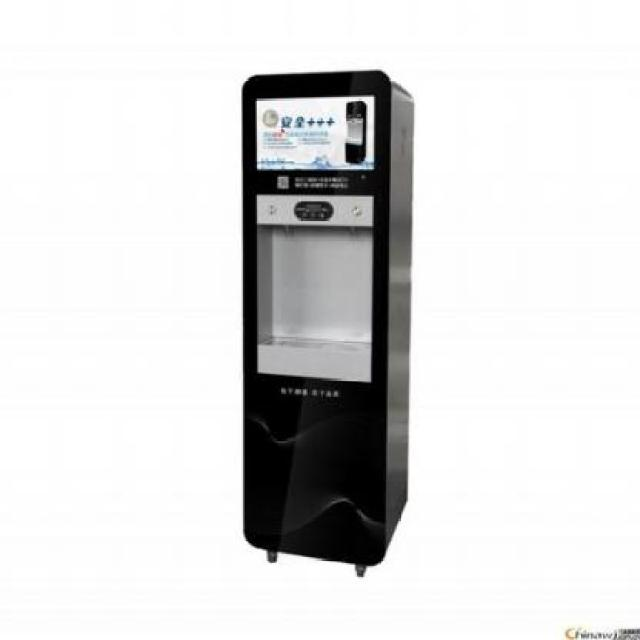cooler: (240, 70, 415, 576)
